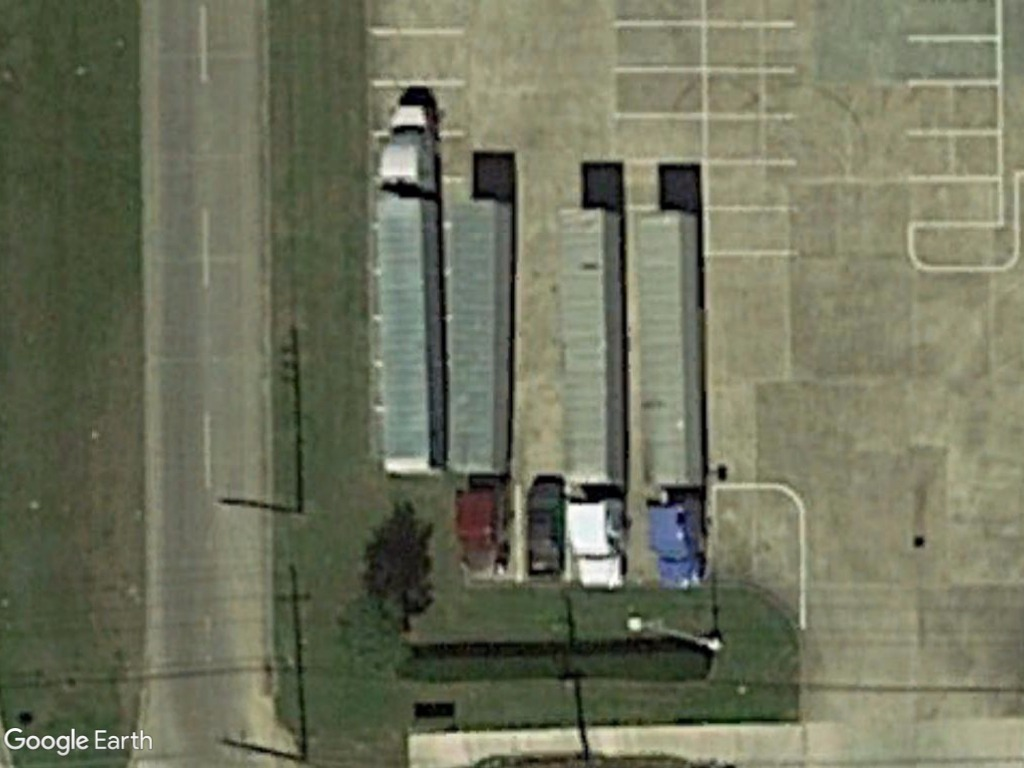longvehicle: (373, 101, 455, 482), (445, 189, 523, 589), (630, 205, 709, 592), (559, 203, 632, 594)
